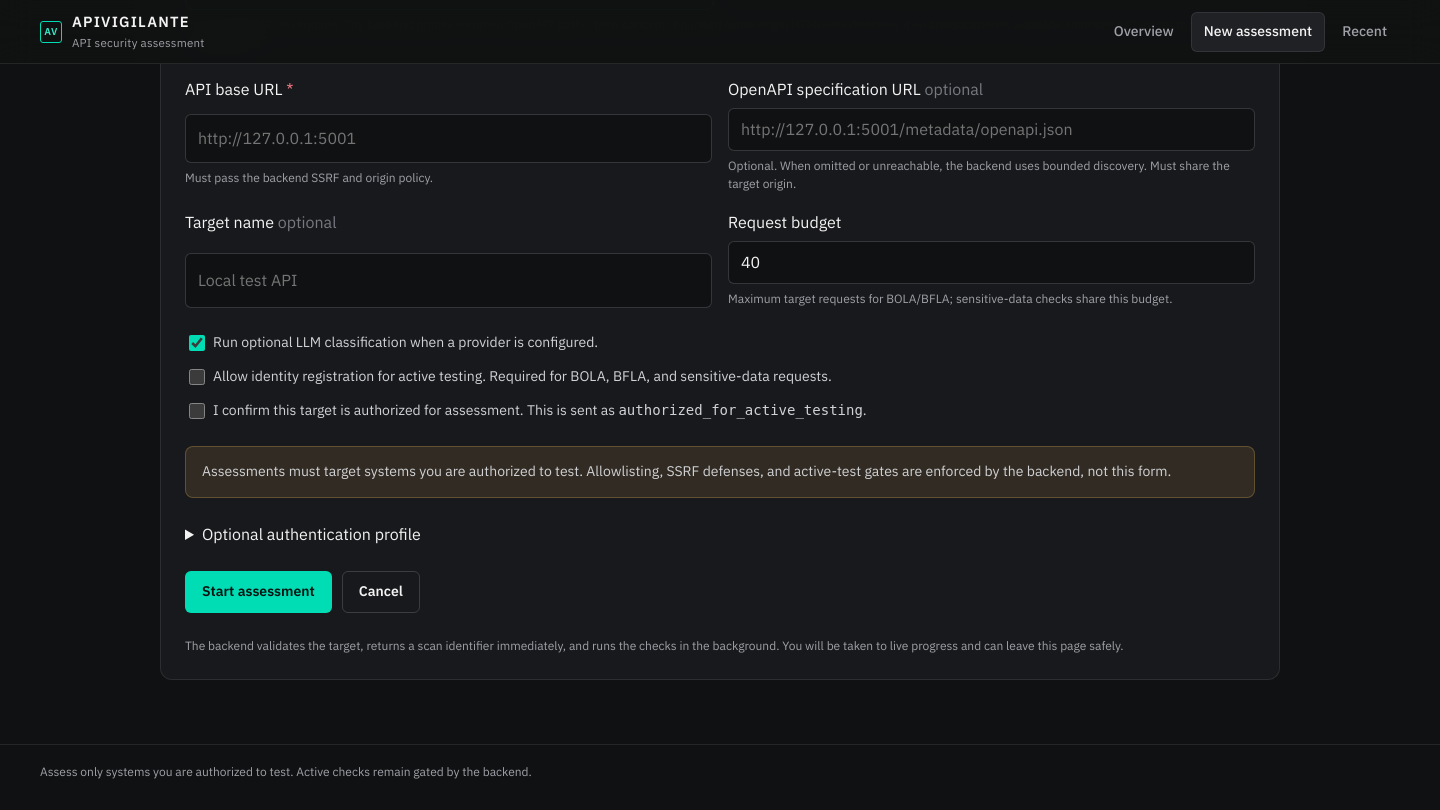
Test: APIVigilante application › validates the form before submitting
This screenshot has width=1440, height=810.
(page scrolled)
Click the button "Start assessment" at (258, 592), box x1=185 y1=571 x2=332 y2=613
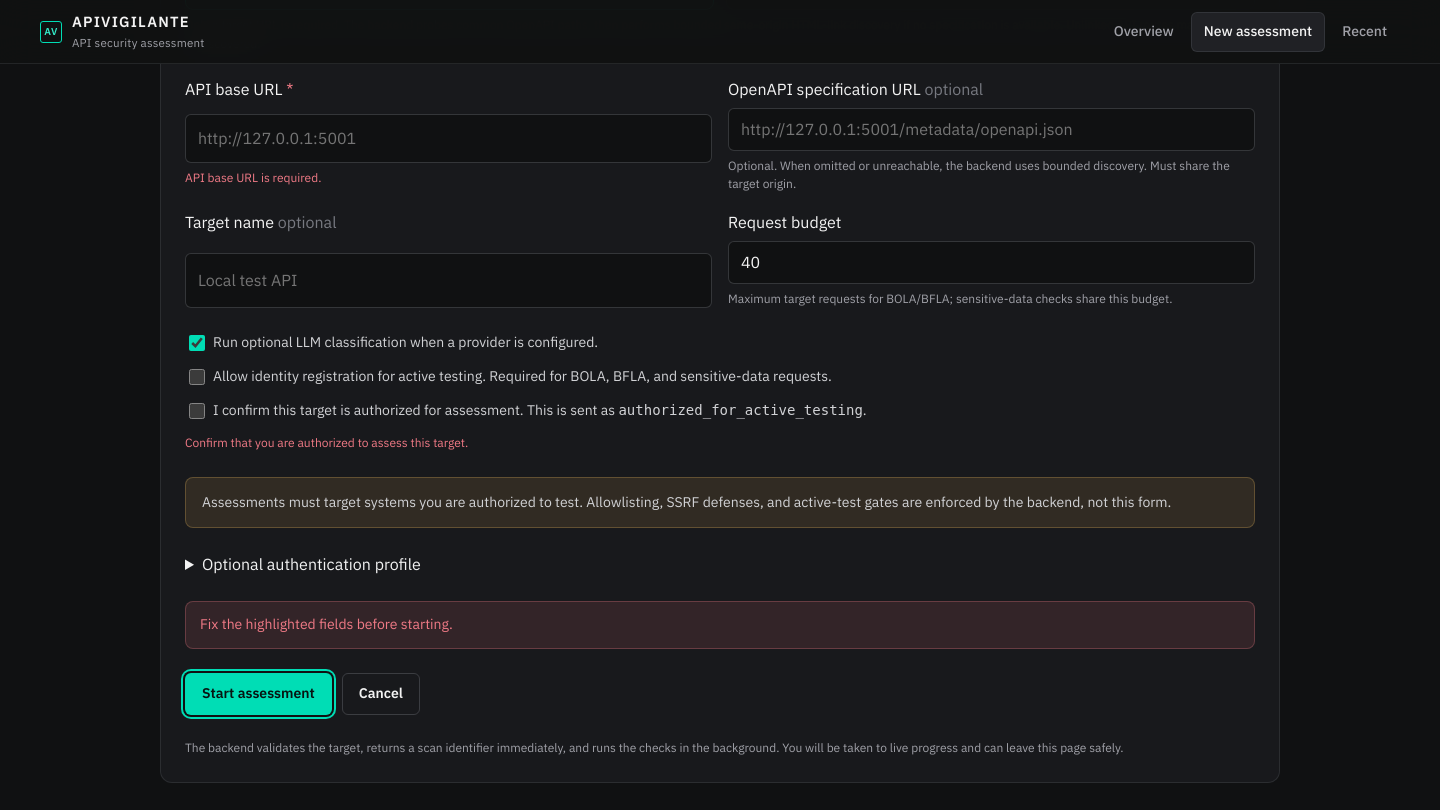
Result: the text "API base URL is required." is shown at x1=185 y1=170 x2=321 y2=185
Result: the text "Confirm that you are authorized to assess this target." is shown at x1=185 y1=435 x2=468 y2=450
